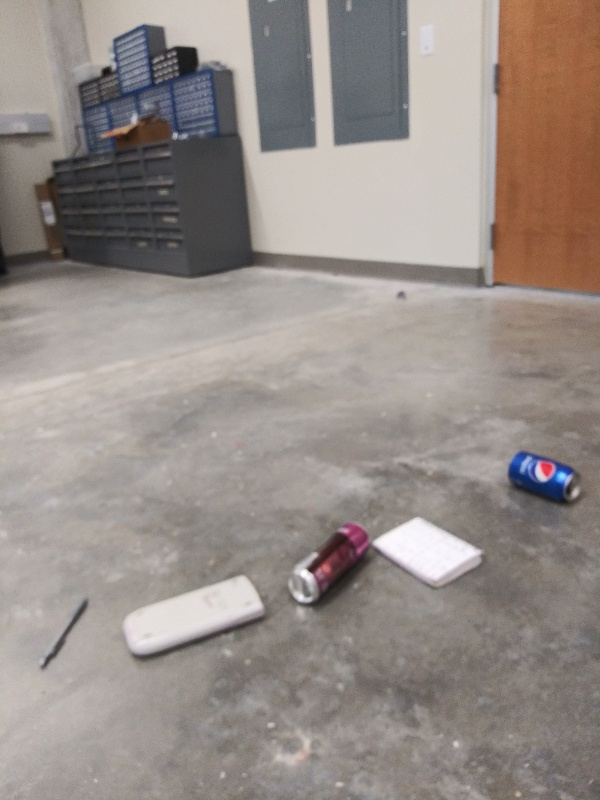can: (285, 518, 377, 608), (503, 447, 585, 508)
